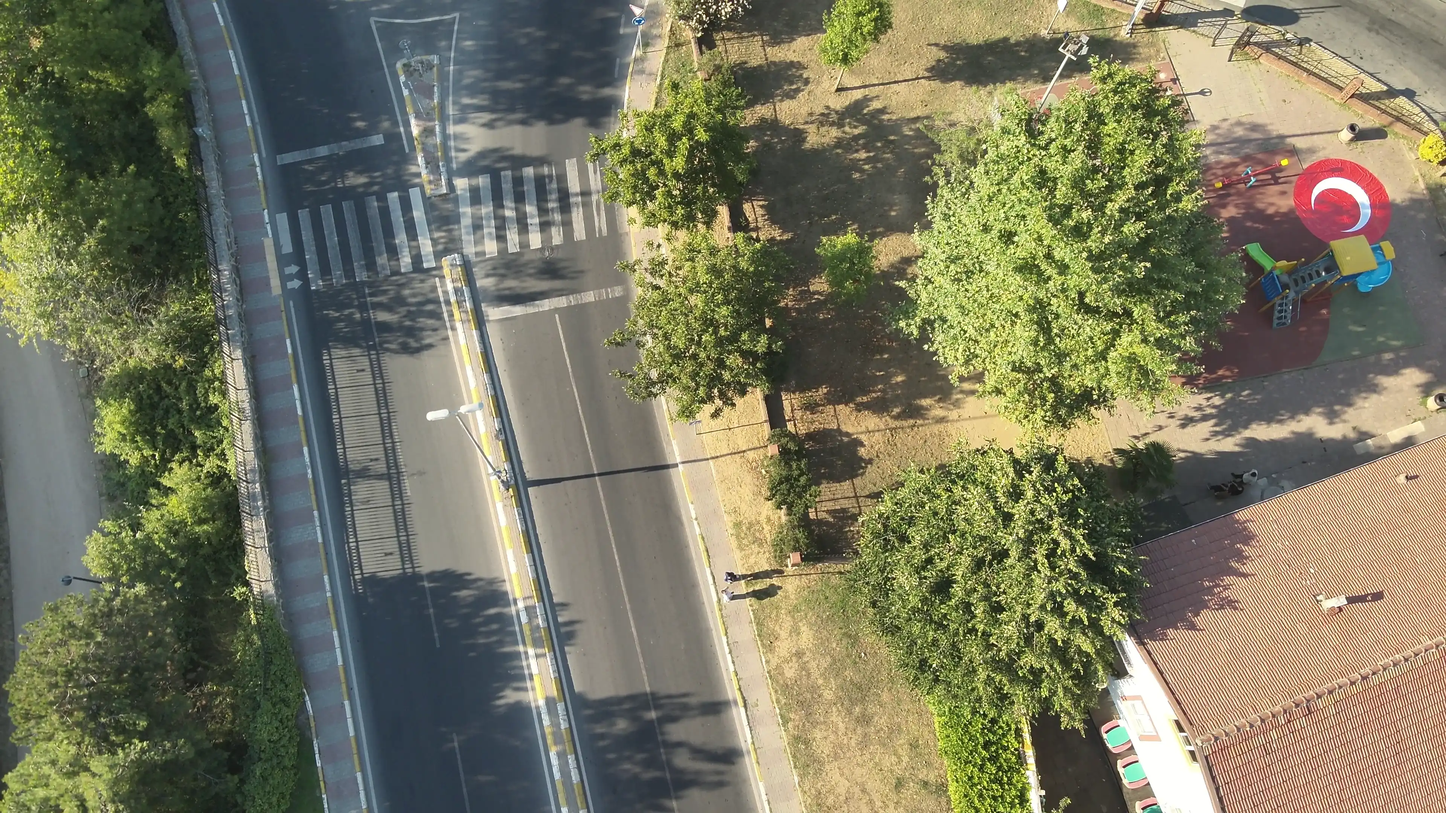person: (715, 586, 734, 605), (722, 570, 738, 582)
